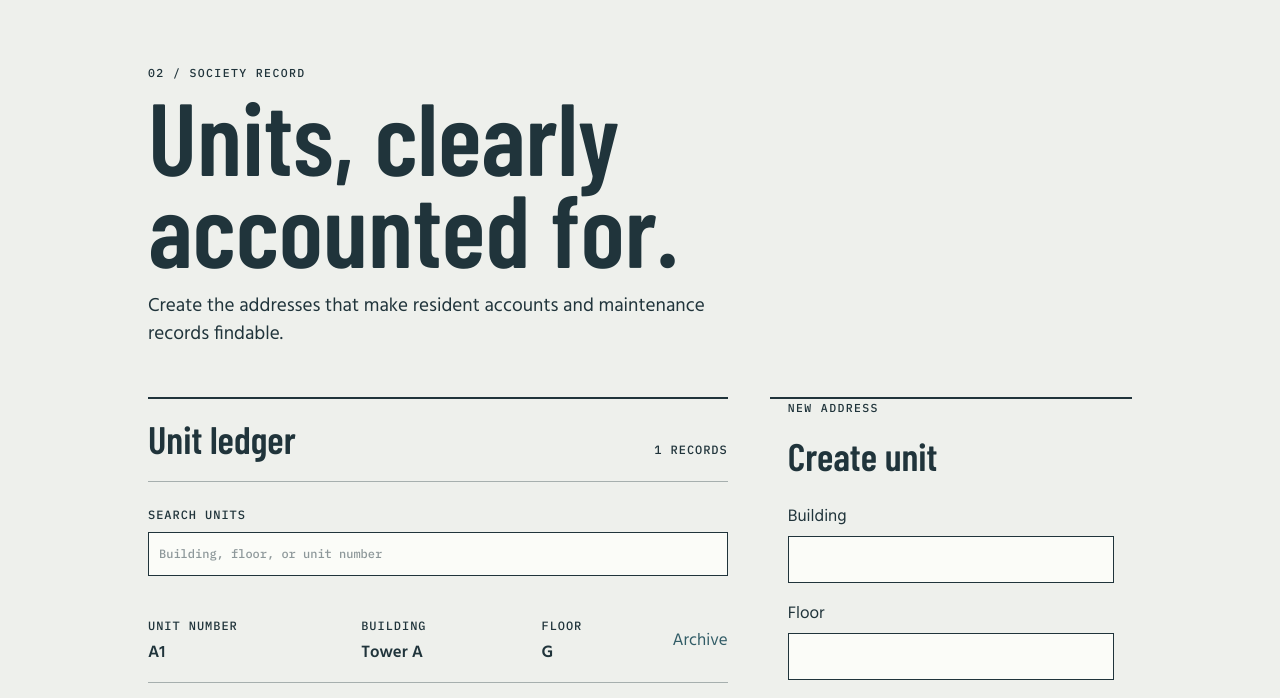
it: society and unit interfaces › archives a unit after confirmation and removes its row
expect the text "A1" is shown: met, box [148,639,165,666]
Click the button with aria-label "Archive unit A1": (700, 641) [672,628,728,654]
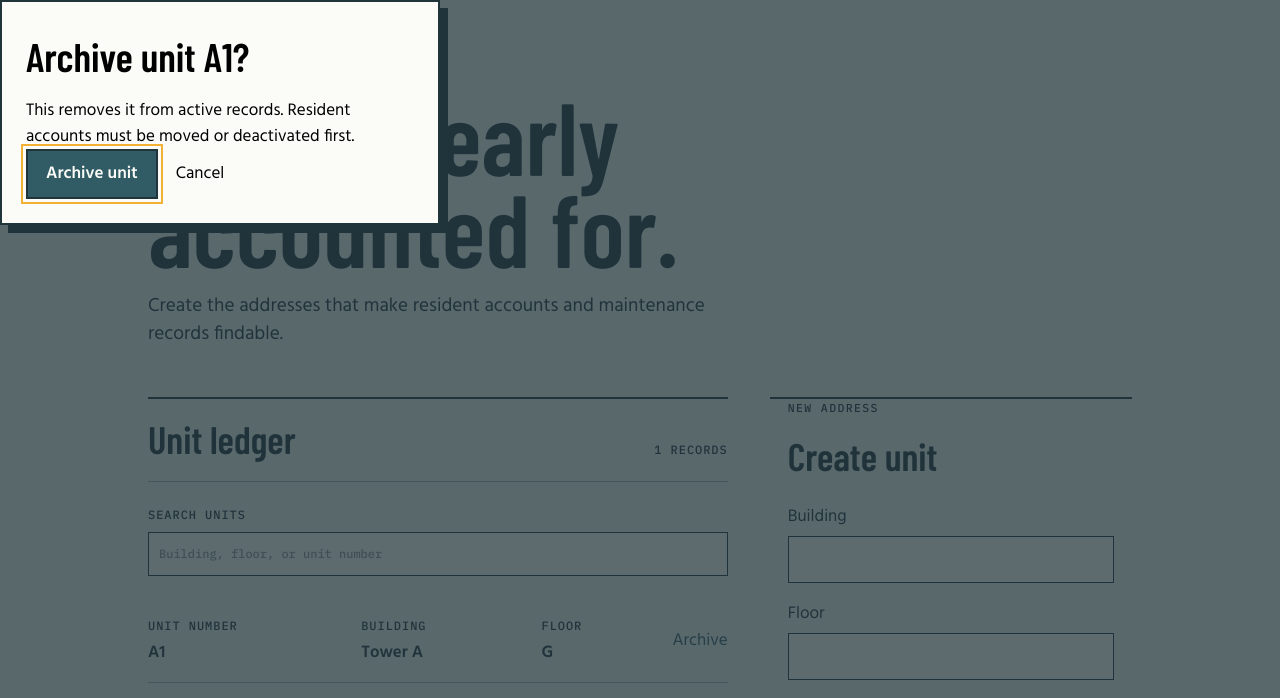
expect the heading "Archive unit A1?" is shown: met, box [26,32,249,80]
Click the button "Archive unit": (92, 174) [26,149,158,198]
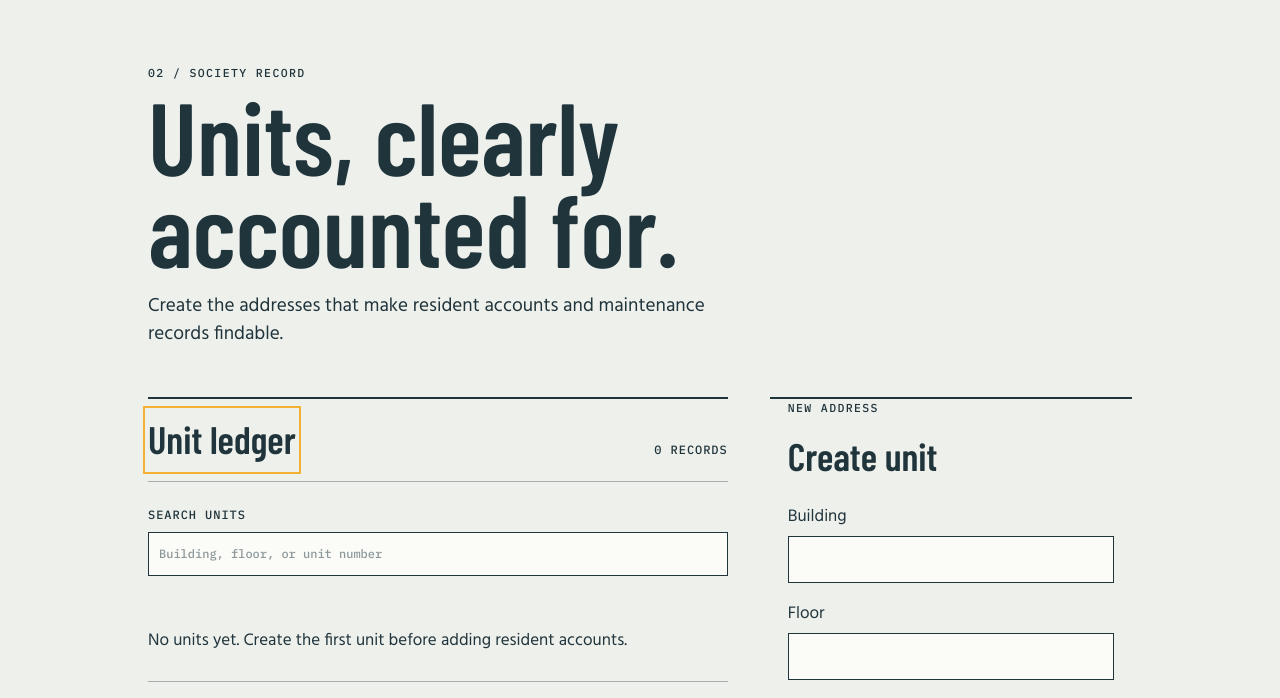
expect the text "A1" is gone: met
